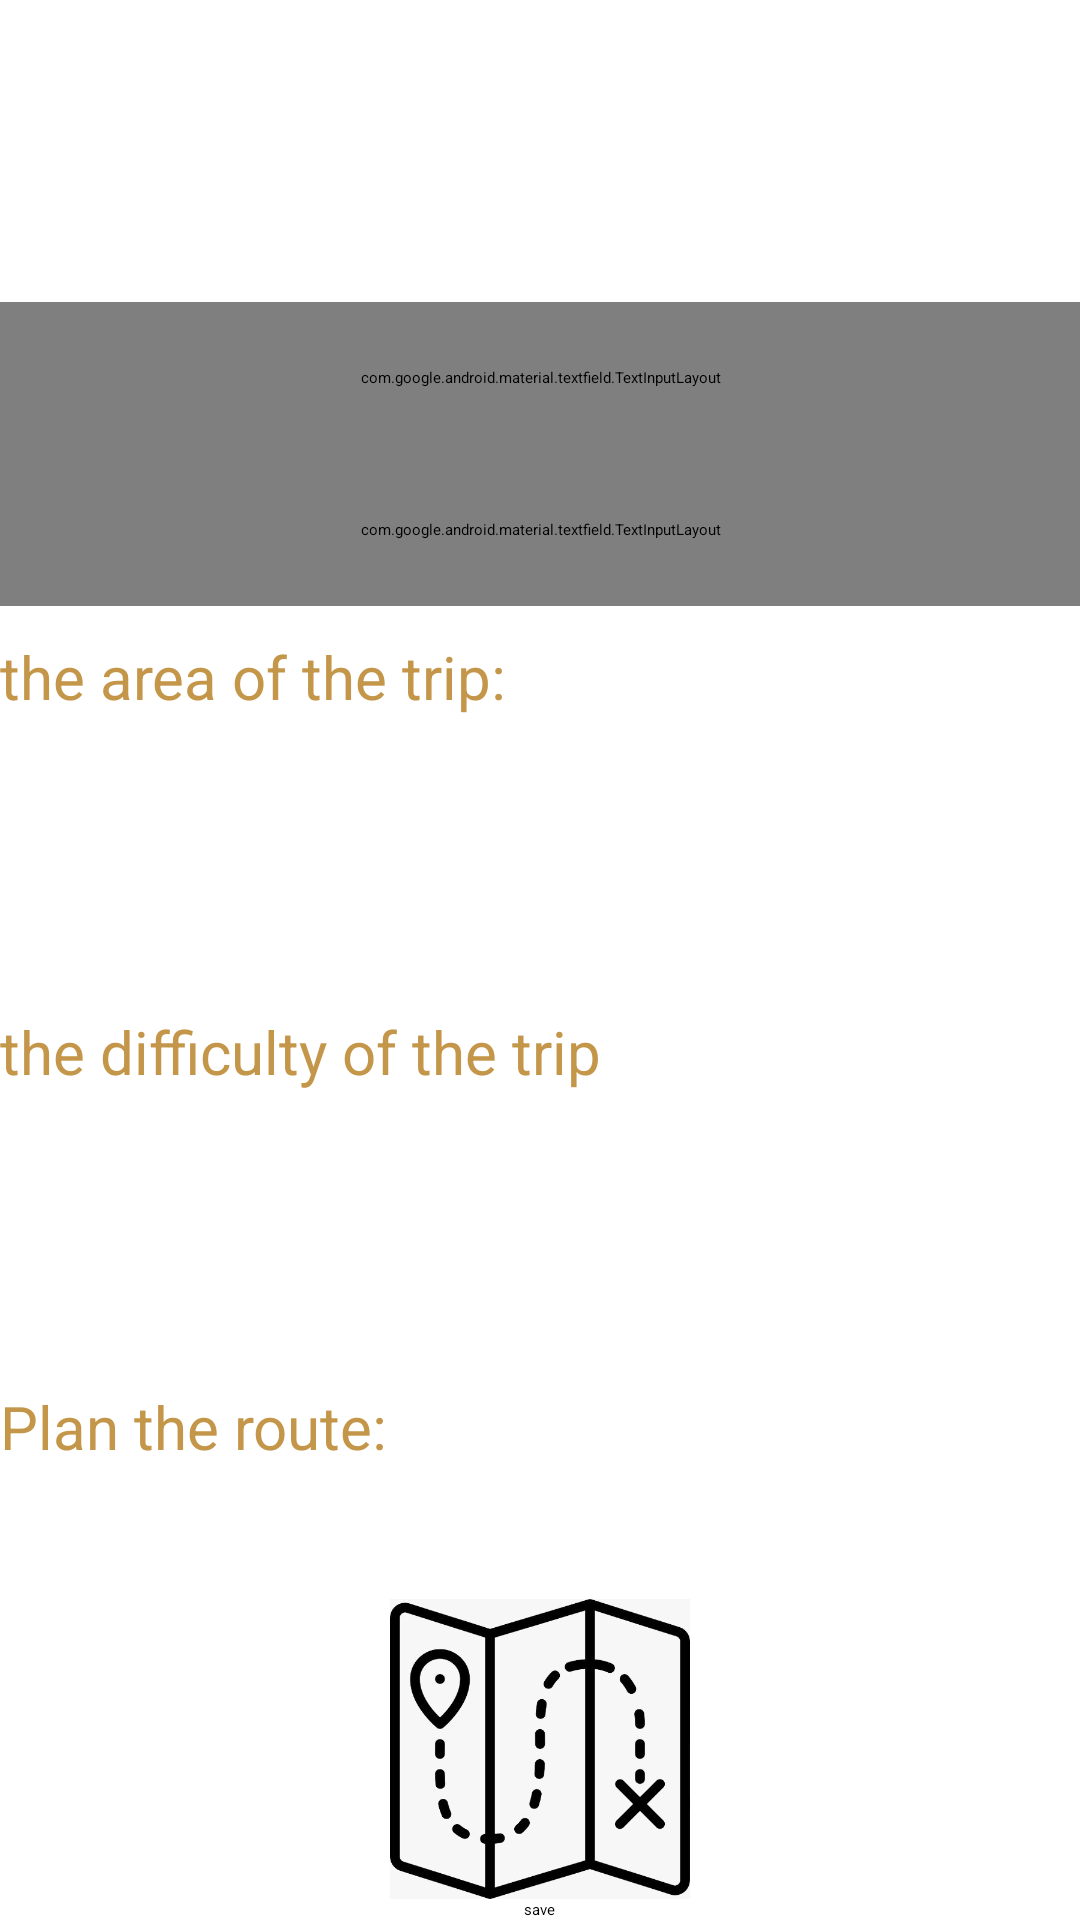

Icons on this 1080*1920 Android screen, each with the point to tap as (x,y):
map: (540,1749)
